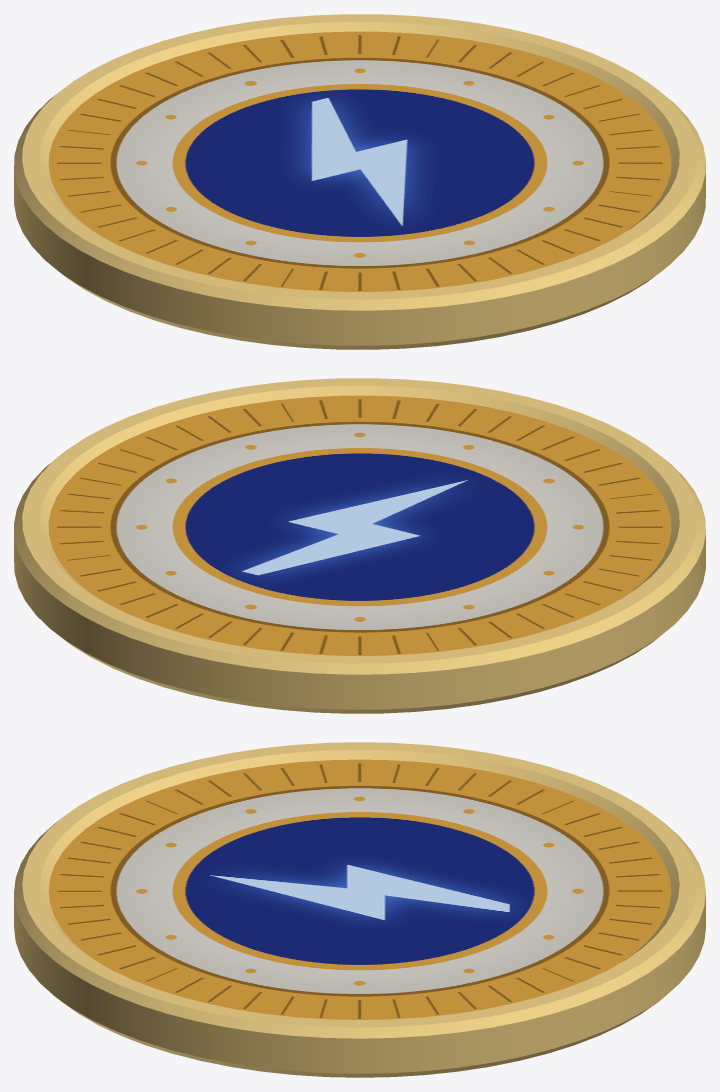
Rendered from coin.glb.
The picture shows the model from 3 angles, top to bottom: view 1: azimuth 30°, elevation 25°; view 2: azimuth 150°, elevation 25°; view 3: azimuth 270°, elevation 25°; orthographic projection.
Parts seen in each view (by area): view 1: Coin; view 2: Coin; view 3: Coin.
Boxes of the visible parts, <box> form: Coin: <box>14,14,705,349</box>; Coin: <box>14,378,705,713</box>; Coin: <box>14,742,705,1077</box>.
Bounding box in the file's own units: 1 × 0.08 × 1.
3 materials, 2 textured.
